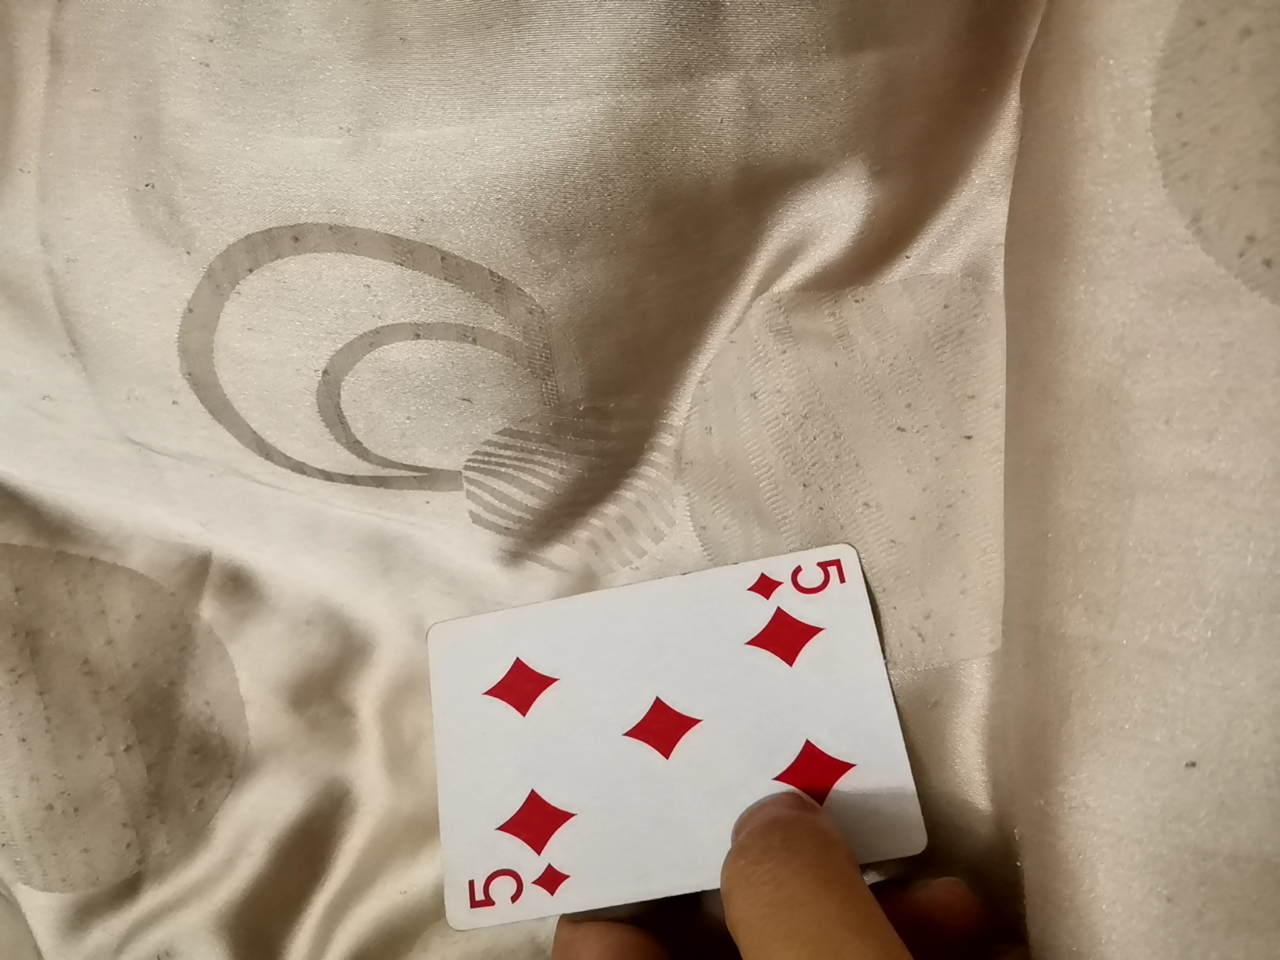fk 5: (415, 542, 923, 958)
